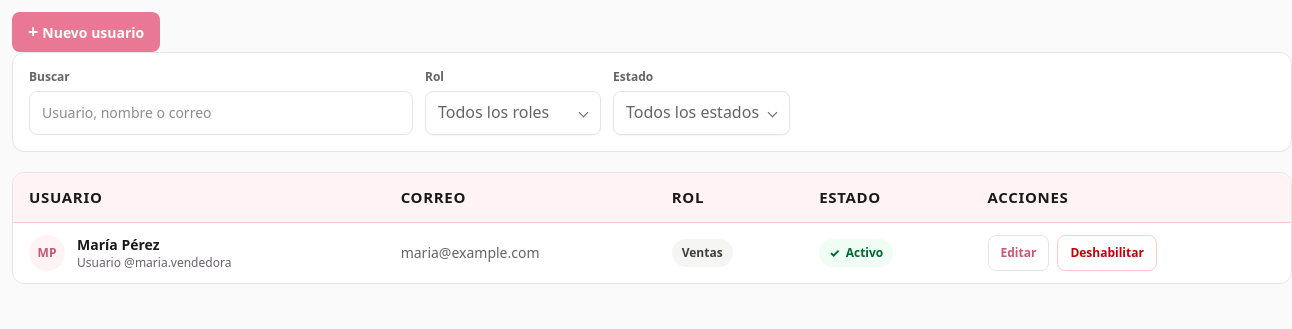
Scenario: UsersPage › opens a styled dropdown with selectable options
This screenshot has width=1292, height=329.
Expected: the button with aria-label "Editar maria.vendedora" is shown, top-left (988, 235), bottom-right (1049, 271)
What coordinates should you click on to do the following:
click the button with aria-label "Seleccionar rol"
I would click on:
 (513, 113)
Its box is top-left (425, 91), bottom-right (601, 135).
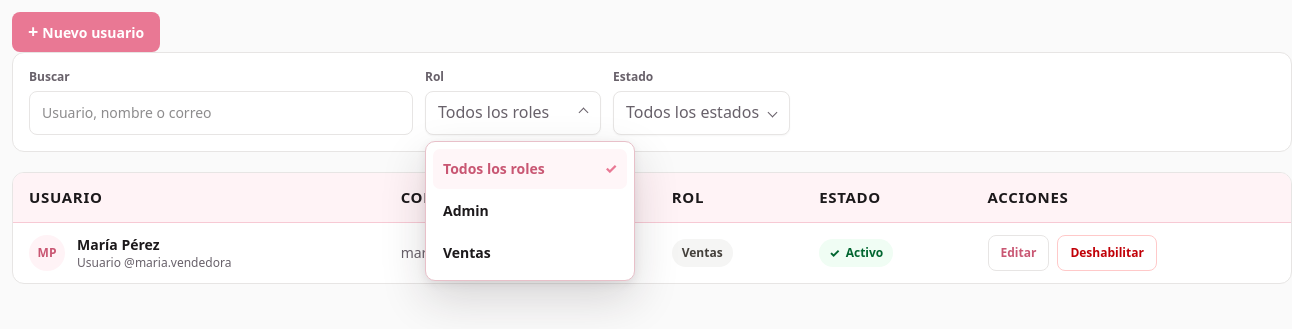
Expected: the list is shown, top-left (432, 148), bottom-right (628, 274)
Expected: the option "Ventas" is shown, top-left (433, 233), bottom-right (627, 273)
Expected: the option "Admin" is shown
What coordinates should you click on to do the following:
click the option "Admin"
I would click on:
 (530, 211)
Its box is top-left (433, 191), bottom-right (627, 231).
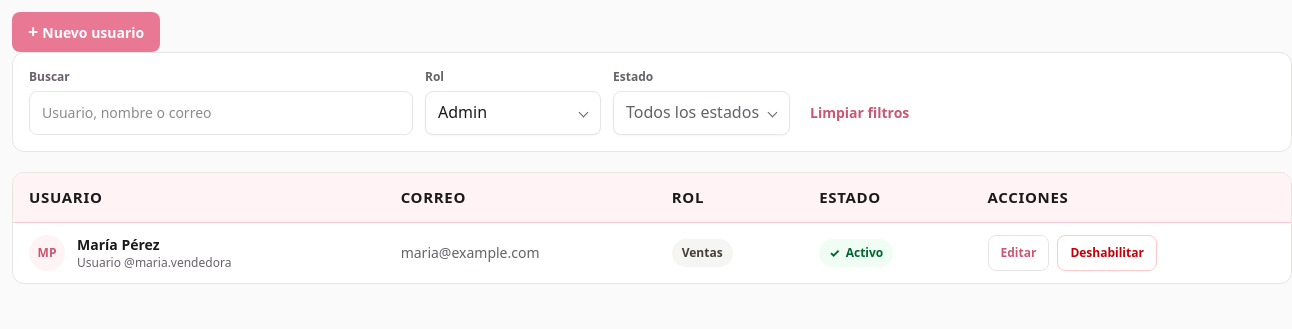
Expected: the button with aria-label "Seleccionar rol" reads "Admin", top-left (425, 91), bottom-right (601, 135)
